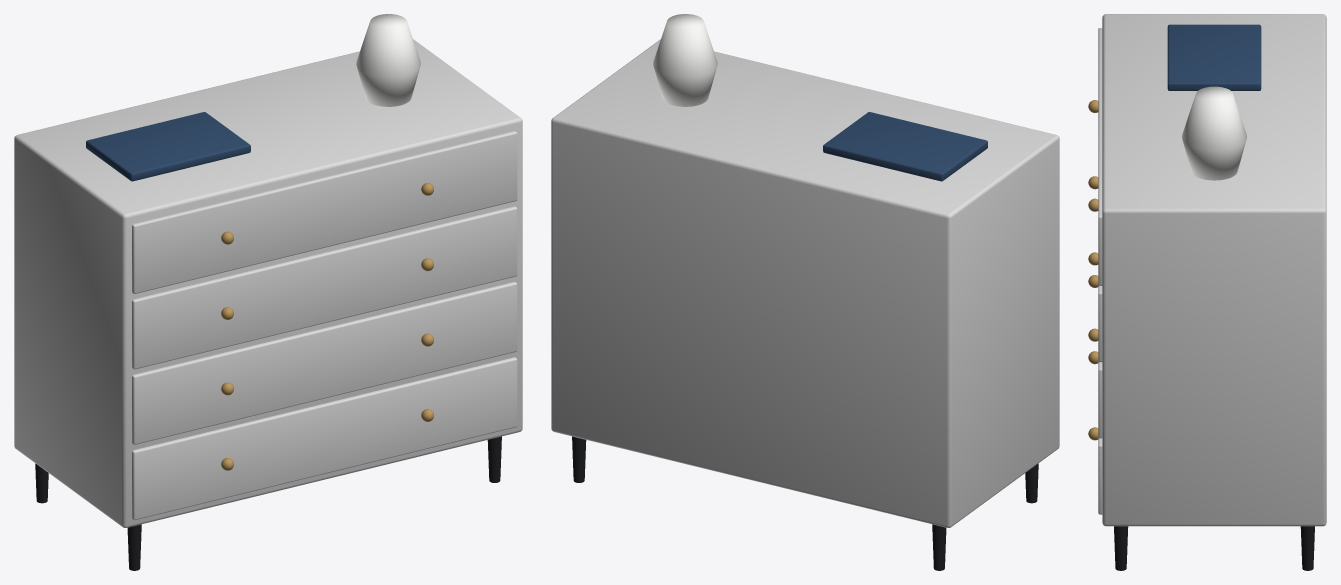
Rendered from comoda.glb.
3 views of the same model, side by side, from view 1: azimuth 30°, elevation 25°; view 2: azimuth 150°, elevation 25°; view 3: azimuth 270°, elevation 25° (orthographic).
Visible parts, largest first — view 1: p; view 2: p; view 3: p.
Boxes of the visible parts, x1,y1,x2,y2 form: p: [14, 14, 522, 570]; p: [551, 14, 1059, 570]; p: [1088, 14, 1326, 570].
Bounding box in the file's own units: 1 × 1.05 × 0.5099.
